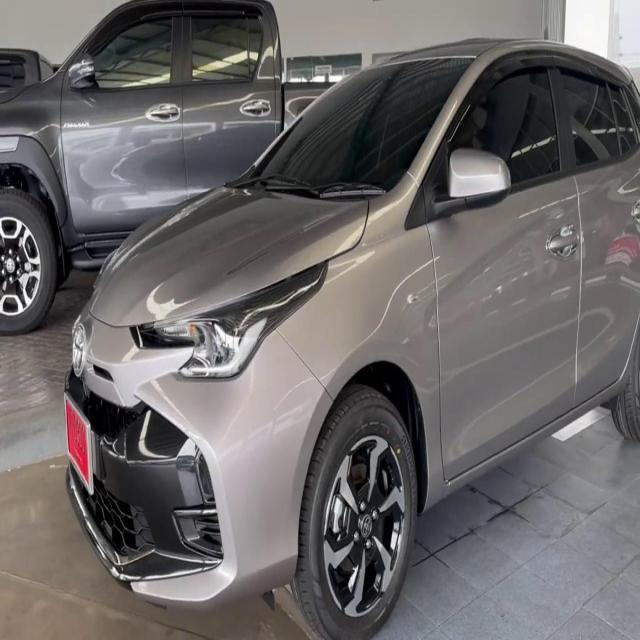Hatchback: (64, 40, 640, 639)
